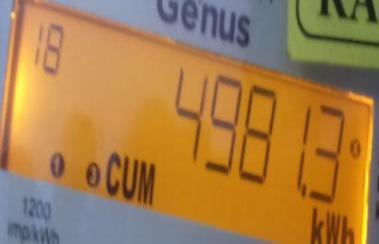.: (303, 206, 359, 244)
0: (300, 184, 308, 201)
2: (290, 100, 314, 199)
4: (306, 105, 350, 205)
5: (163, 63, 211, 171)
9: (235, 83, 283, 189)
:: (205, 75, 243, 176)
